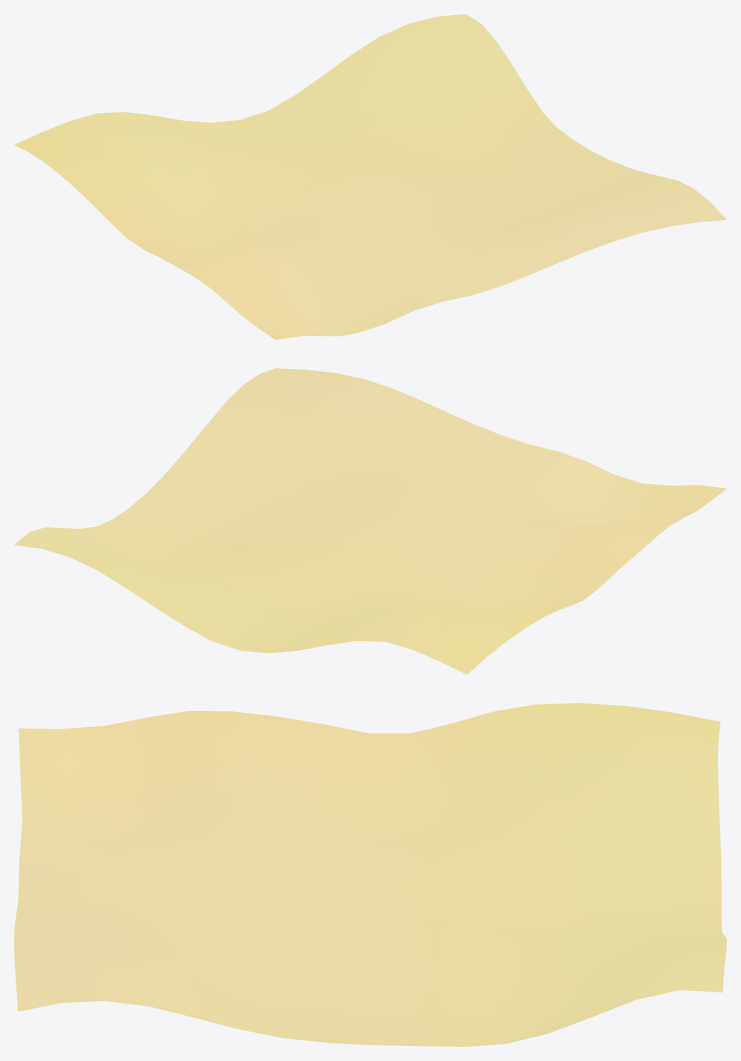
Rendered from solo.fbx.
The picture shows the model from 3 angles, top to bottom: view 1: azimuth 30°, elevation 25°; view 2: azimuth 150°, elevation 25°; view 3: azimuth 270°, elevation 25°; orthographic projection. The views are drawn at different scales.
Visible parts, largest first — view 1: Plane; view 2: Plane; view 3: Plane.
Part boxes in pixels (<box>): Plane: <box>14,14,726,339</box>; Plane: <box>14,368,726,674</box>; Plane: <box>14,703,726,1046</box>.
Bounding box in the file's own units: 2037 × 272 × 2029.
